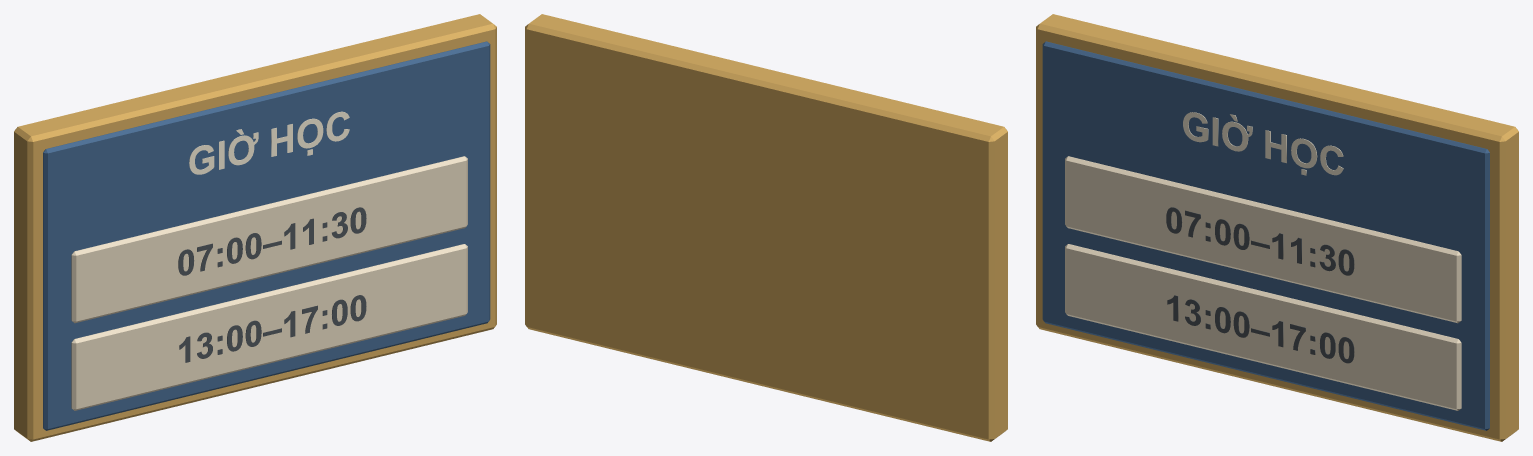
File: schedule-sign.glb
3 renders of one model, left to right at view 1: azimuth 30°, elevation 25°; view 2: azimuth 150°, elevation 25°; view 3: azimuth 330°, elevation 25°, orthographic.
Visible parts, largest first — view 1: schedule_sign; view 2: schedule_sign; view 3: schedule_sign.
Boxes of the visible parts, x1,y1,x2,y2 form: schedule_sign: (14, 14, 496, 441); schedule_sign: (525, 14, 1007, 441); schedule_sign: (1036, 14, 1518, 441).
Bounding box in the file's own units: 1.85 × 1.15 × 0.177.
